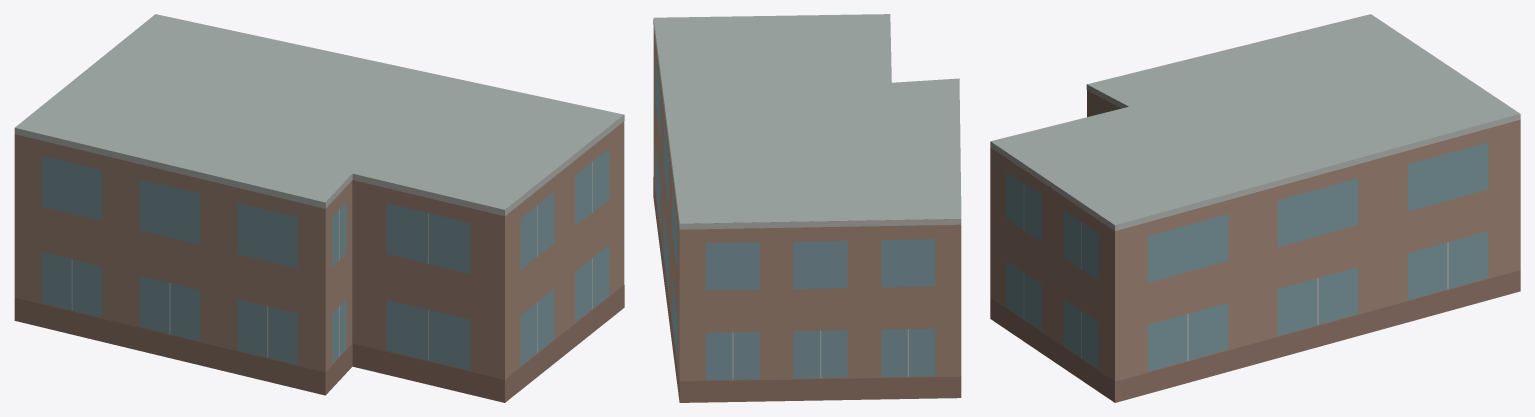
The model's file is survey-upis-32909767.glb.
The picture shows the model from 3 angles, left to right: view 1: azimuth 30°, elevation 25°; view 2: azimuth 150°, elevation 25°; view 3: azimuth 270°, elevation 25°; orthographic projection. The views are drawn at different scales.
Parts seen in each view (by area): view 1: survey-upis-32909767.tmp; view 2: survey-upis-32909767.tmp; view 3: survey-upis-32909767.tmp.
Boxes of the visible parts, bbox=[...] form: survey-upis-32909767.tmp: bbox=[14, 14, 624, 402]; survey-upis-32909767.tmp: bbox=[653, 14, 961, 402]; survey-upis-32909767.tmp: bbox=[990, 14, 1520, 402].
Size of the model in its own units: 18.9 by 7.4 by 20.04.
